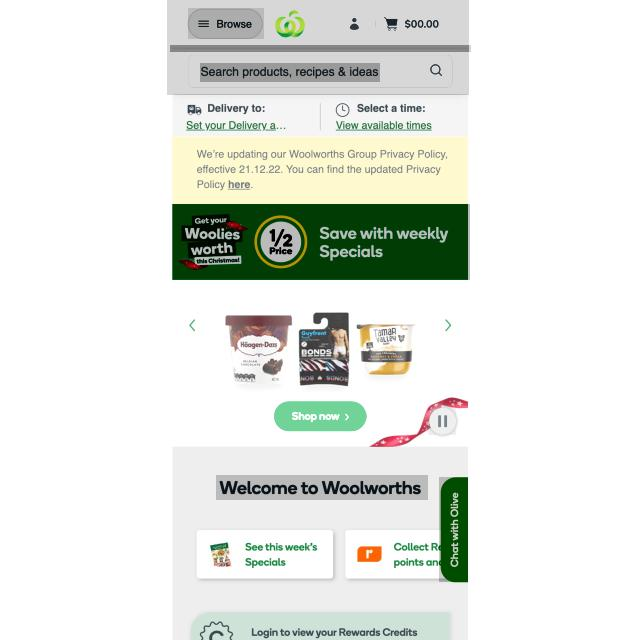CheckBox: (273, 398, 366, 432), (439, 477, 468, 582), (376, 8, 453, 41), (338, 8, 370, 40), (428, 407, 456, 435)
CheckedTextView: (187, 53, 455, 89)
ImageView: (172, 204, 470, 280)
ProgressBar: (173, 136, 468, 206)
Switch: (174, 280, 468, 447)
accordion: (170, 45, 471, 52)
bag: (167, 0, 469, 95)
carousel: (428, 61, 445, 80)
date picker: (274, 9, 307, 38)
decoration: (188, 8, 264, 39)
footer: (200, 63, 380, 82)
image: (216, 475, 428, 500)
